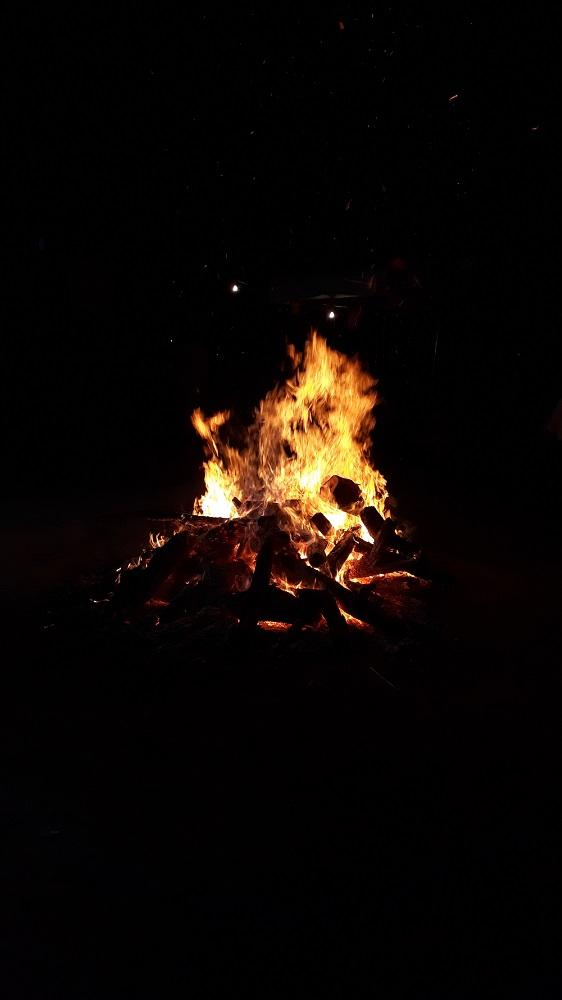Fire: (114, 333, 421, 590)
